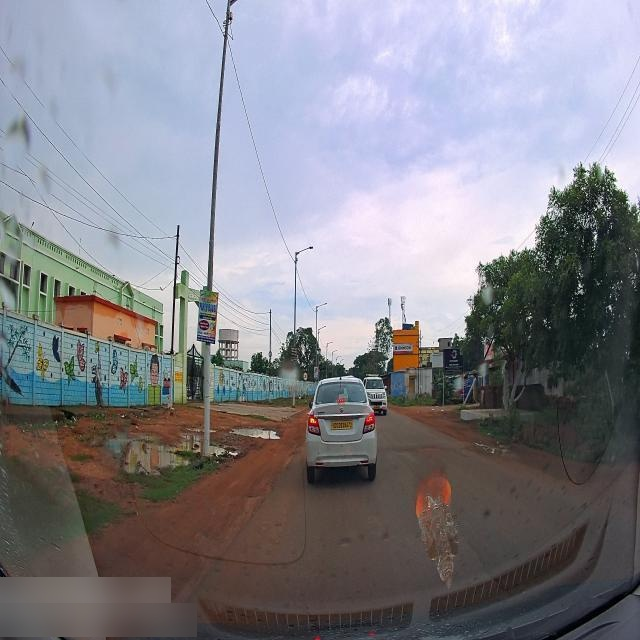pothole: (112, 426, 196, 471), (232, 422, 284, 442), (214, 437, 238, 462)
